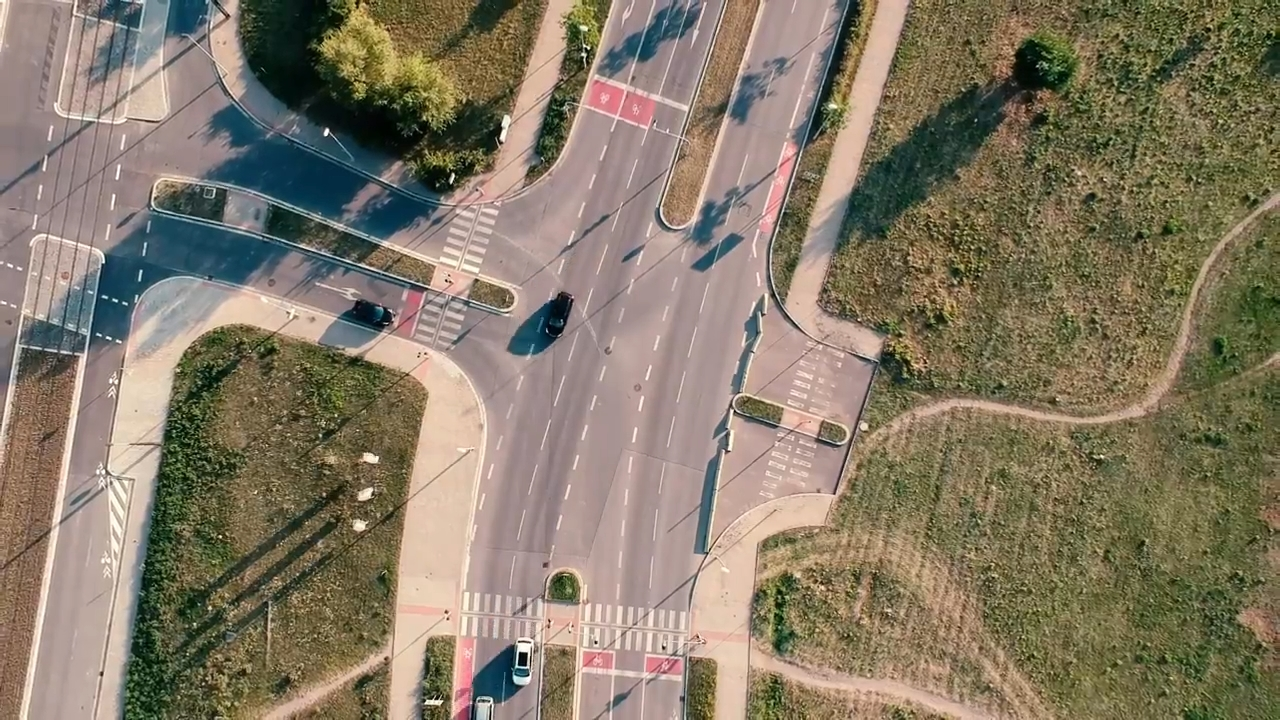car: (352, 297, 397, 329), (544, 291, 573, 338), (511, 636, 536, 686), (473, 696, 495, 720)
